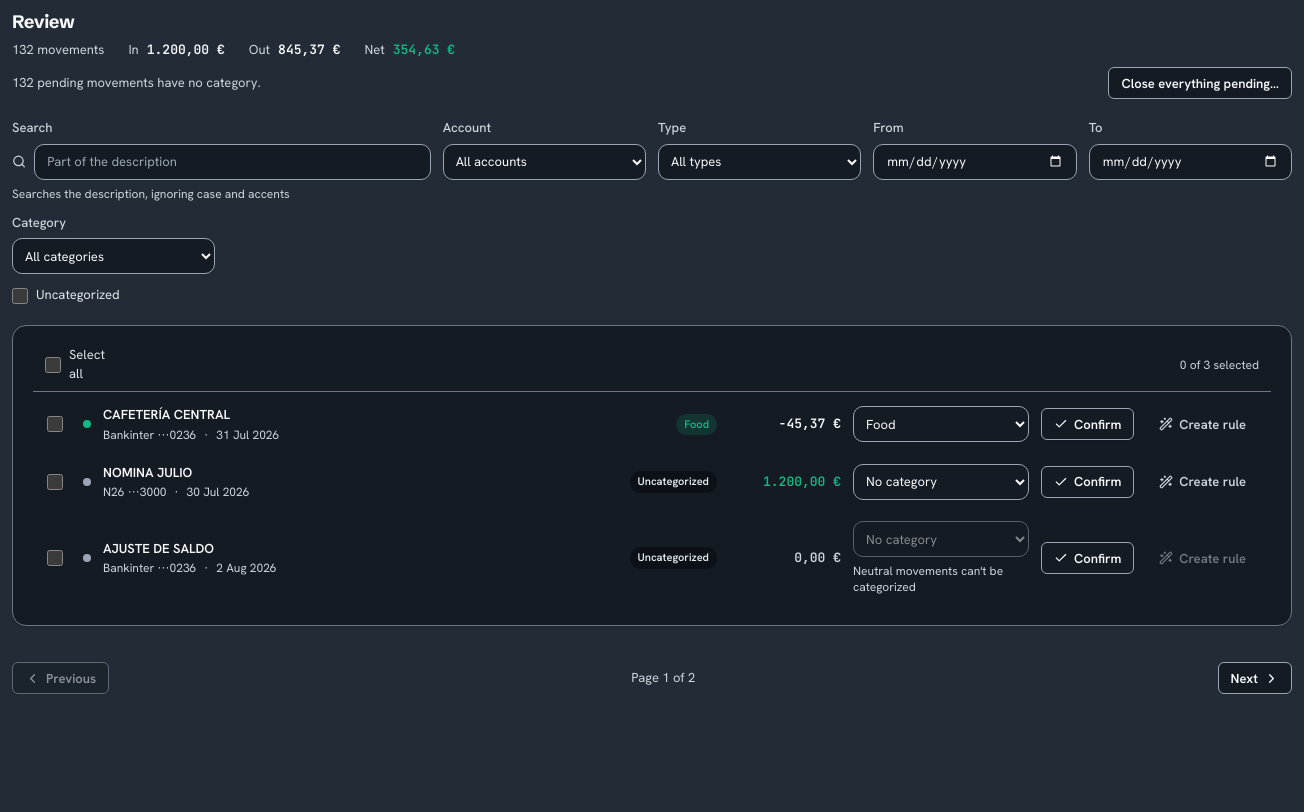
ReviewView › selecting and acting (R1, R3, R6, R10, R13) › says in English that nothing changed when the backend rejects the action (R12)
The image size is (1304, 812).
Click the checkbox labelled "Select all": (53, 364) [45,356,61,372]
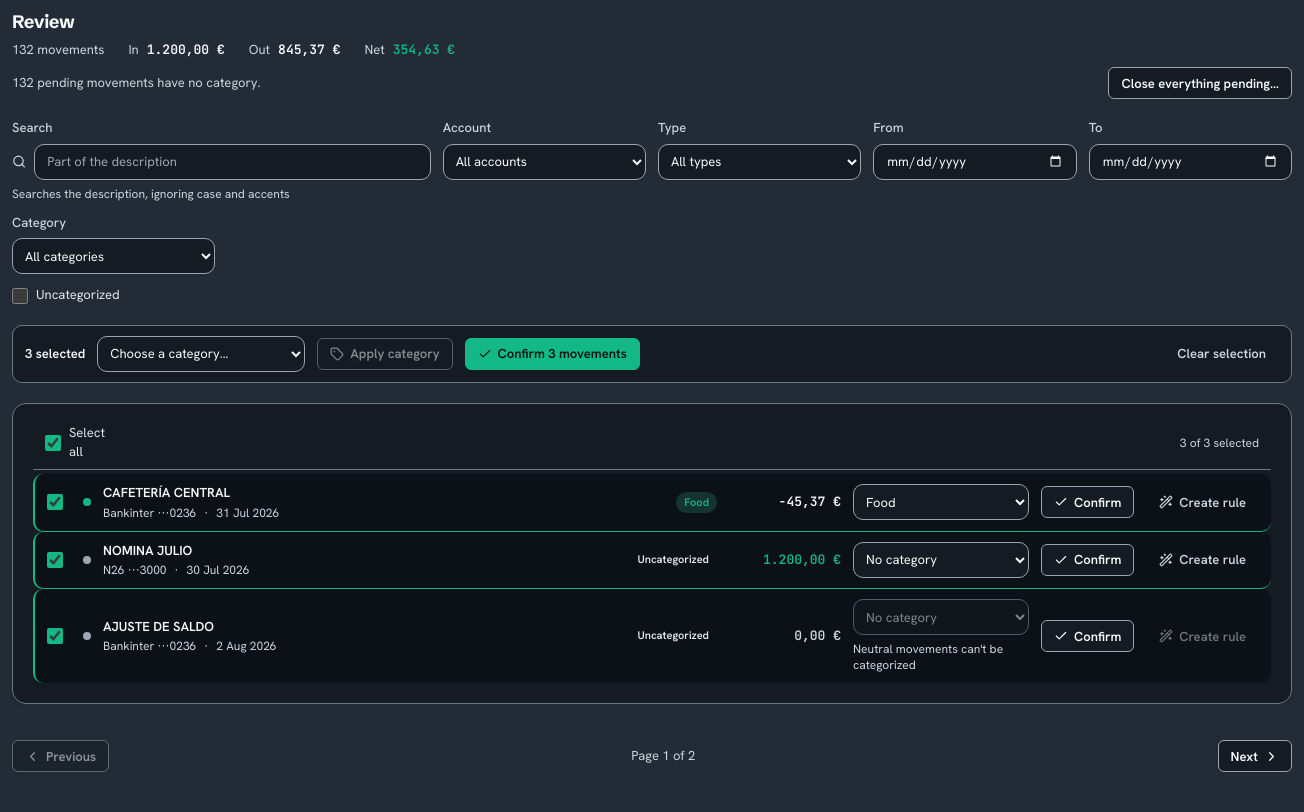
Click the button with test id "confirm-selected": (552, 354) [465,338,640,370]
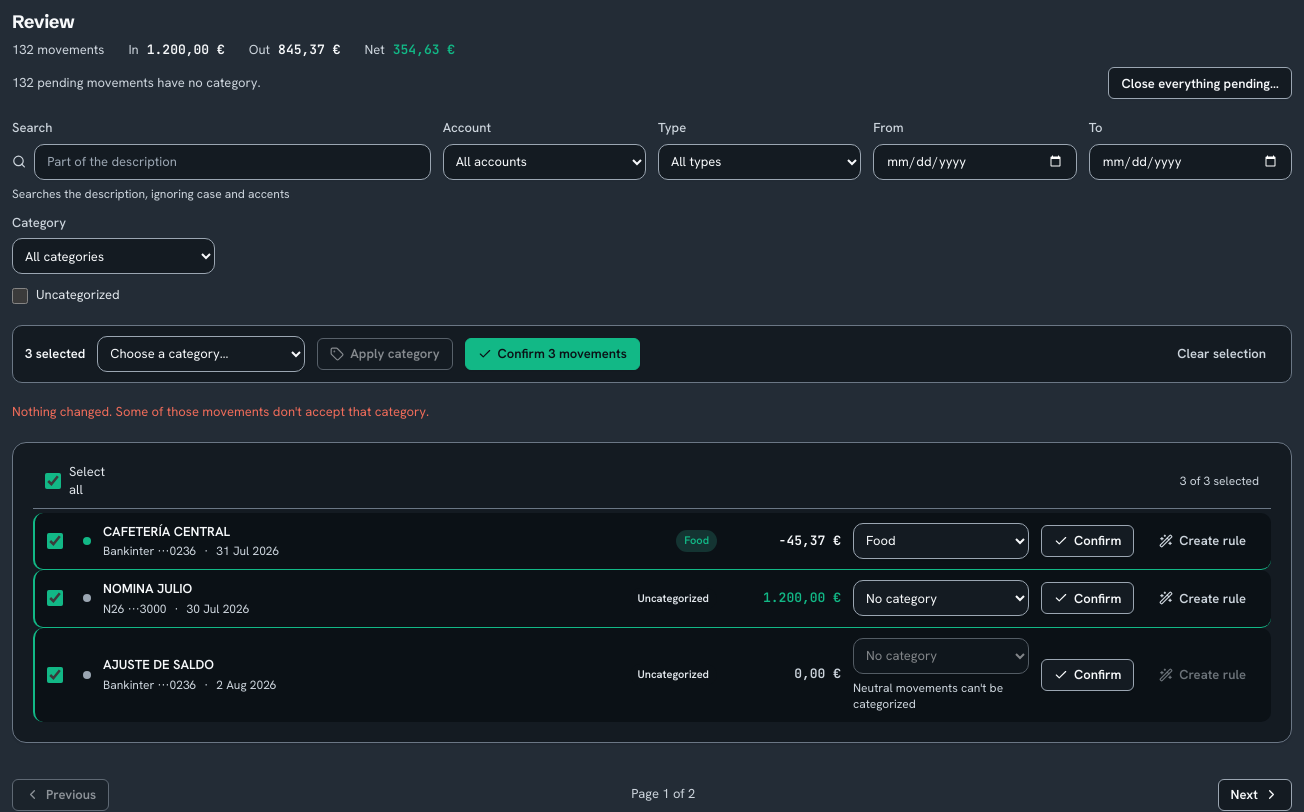
Expected: the number of list items with test id "movement-row" is 3, [33,513,1271,570]; [33,570,1271,628]; [33,628,1271,722]
Expected: the text with test id "selected-count" reads "3 selected", [25,345,85,362]
Expected: the text with test id "action-error" reads "Nothing changed. Some of those movements don't accept that category.", [12,403,429,420]
